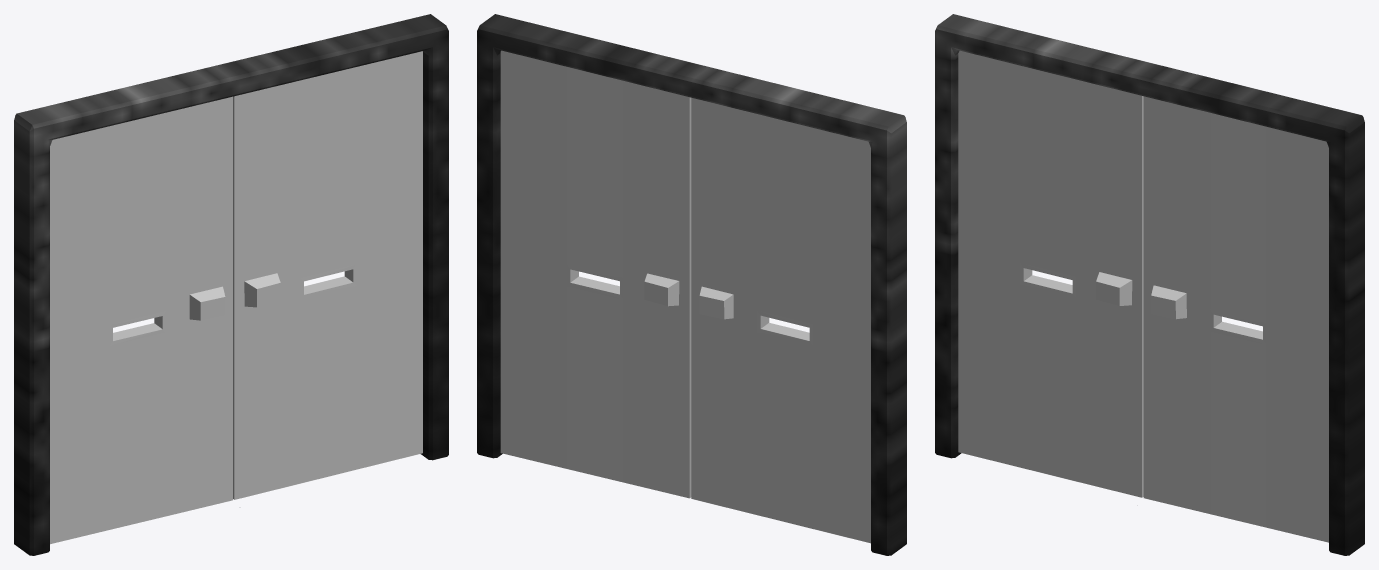
File: porta dupla.fbx
The picture shows the model from 3 angles, left to right: view 1: azimuth 30°, elevation 25°; view 2: azimuth 150°, elevation 25°; view 3: azimuth 330°, elevation 25°; orthographic projection.
Parts seen in each view (by area): view 1: Porta E, Porta D, Porta Molde; view 2: Porta E, Porta D, Porta Molde; view 3: Porta D, Porta E, Porta Molde.
Part boxes in pixels (<box>): Porta E: <box>233,51,422,499</box>; Porta D: <box>50,96,232,544</box>; Porta Molde: <box>14,14,448,555</box>; Porta E: <box>500,50,691,498</box>; Porta D: <box>691,97,870,543</box>; Porta Molde: <box>477,14,906,555</box>; Porta D: <box>958,50,1143,497</box>; Porta E: <box>1143,96,1328,542</box>; Porta Molde: <box>935,14,1364,555</box>.
Bounding box in the file's own units: 243 × 239 × 22.96.
